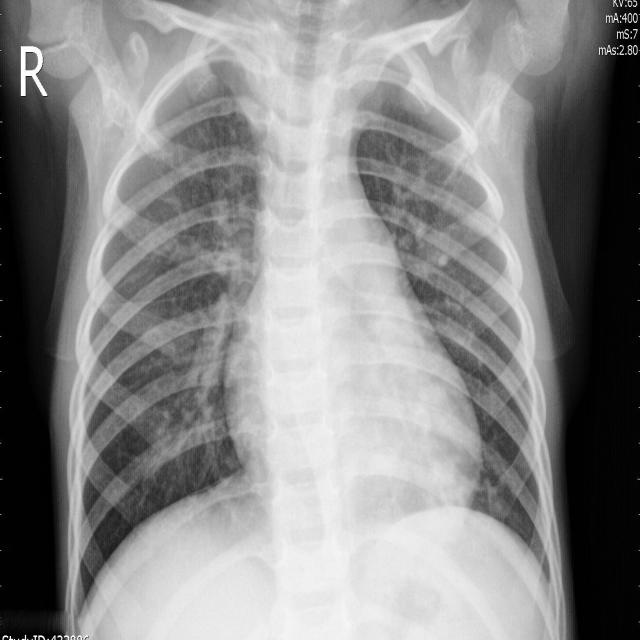high-pneumonia: (224, 31, 272, 131)
low-pneumonia: (187, 201, 260, 433), (381, 138, 471, 282)
